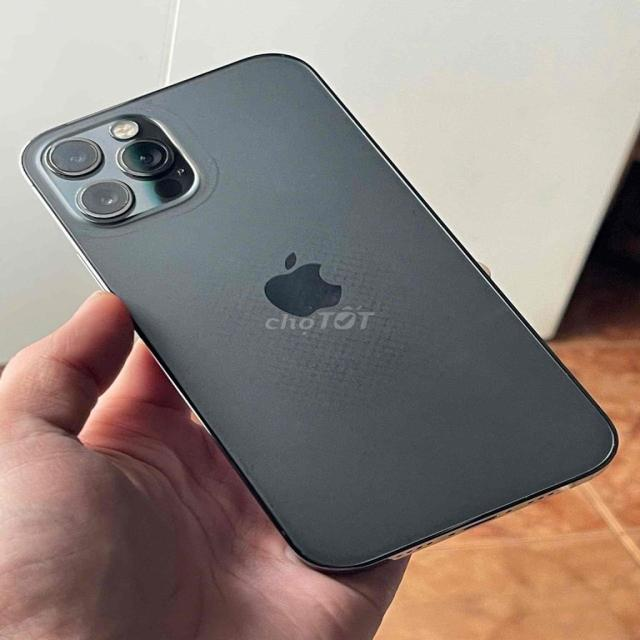gen_12_13: (20, 49, 625, 575)
